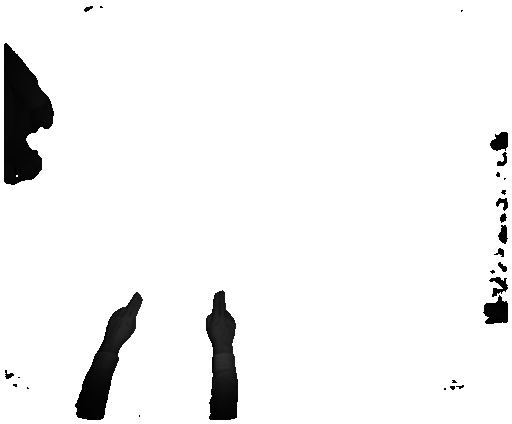hand: (200, 288, 239, 348), (107, 288, 143, 347)
